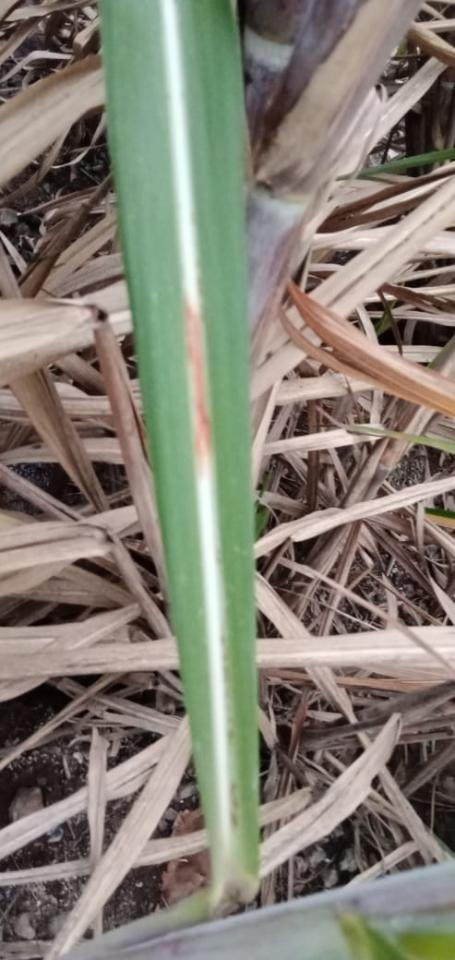RedRot: (183, 293, 213, 478)
